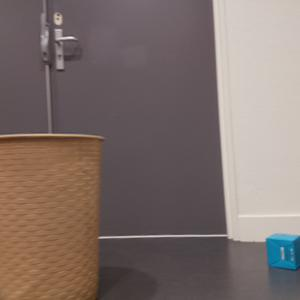medium: (1, 131, 105, 300)
small: (266, 231, 300, 270)
